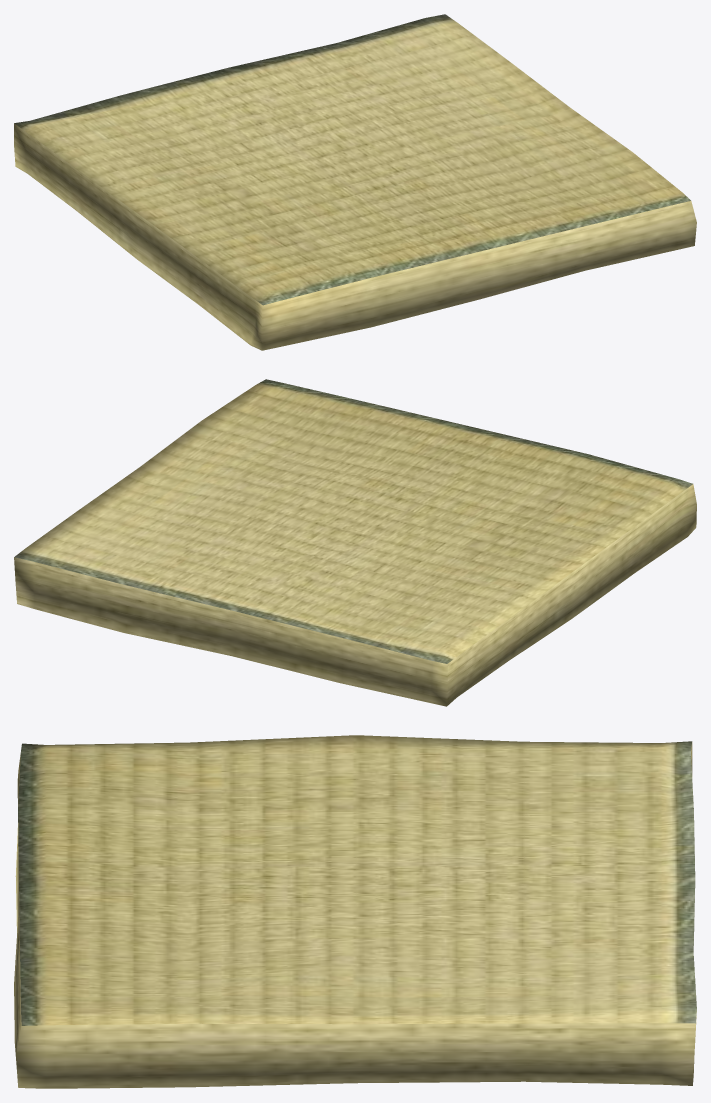
File: TatamiFloor.fbx
The picture shows the model from 3 angles, top to bottom: view 1: azimuth 30°, elevation 25°; view 2: azimuth 150°, elevation 25°; view 3: azimuth 270°, elevation 25°; orthographic projection. The views are drawn at different scales.
Visible parts, largest first — view 1: TatamiFloor; view 2: TatamiFloor; view 3: TatamiFloor.
Boxes of the visible parts, <box> form: TatamiFloor: <box>14,14,696,350</box>; TatamiFloor: <box>14,379,696,706</box>; TatamiFloor: <box>14,735,696,1088</box>.
Size of the model in its own units: 203 by 23.72 by 203.
